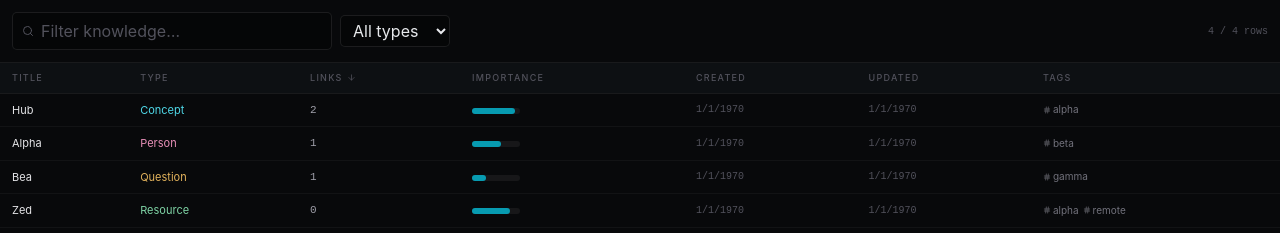
Test: TableExplorer › shows an explanatory empty state when no rows match
The width and height of the screenshot is (1280, 233).
Type "nothing-matches" into the field named "Filter table" at [172, 31], box [12,12,332,50]
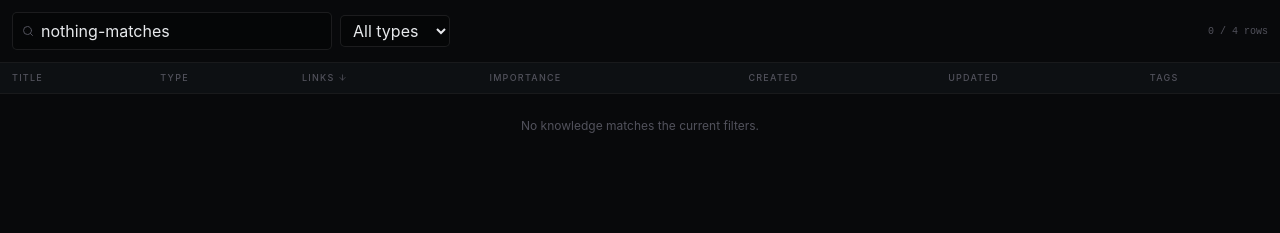
Expected: the text "0 / 4 rows" is shown, [1208,24,1268,38]
Expected: the text "No knowledge matches the current filters." is shown, [521,118,759,132]
